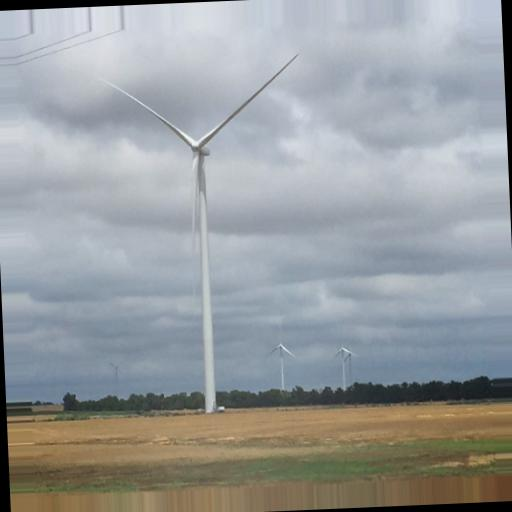wind turbine: (94, 52, 300, 410)
